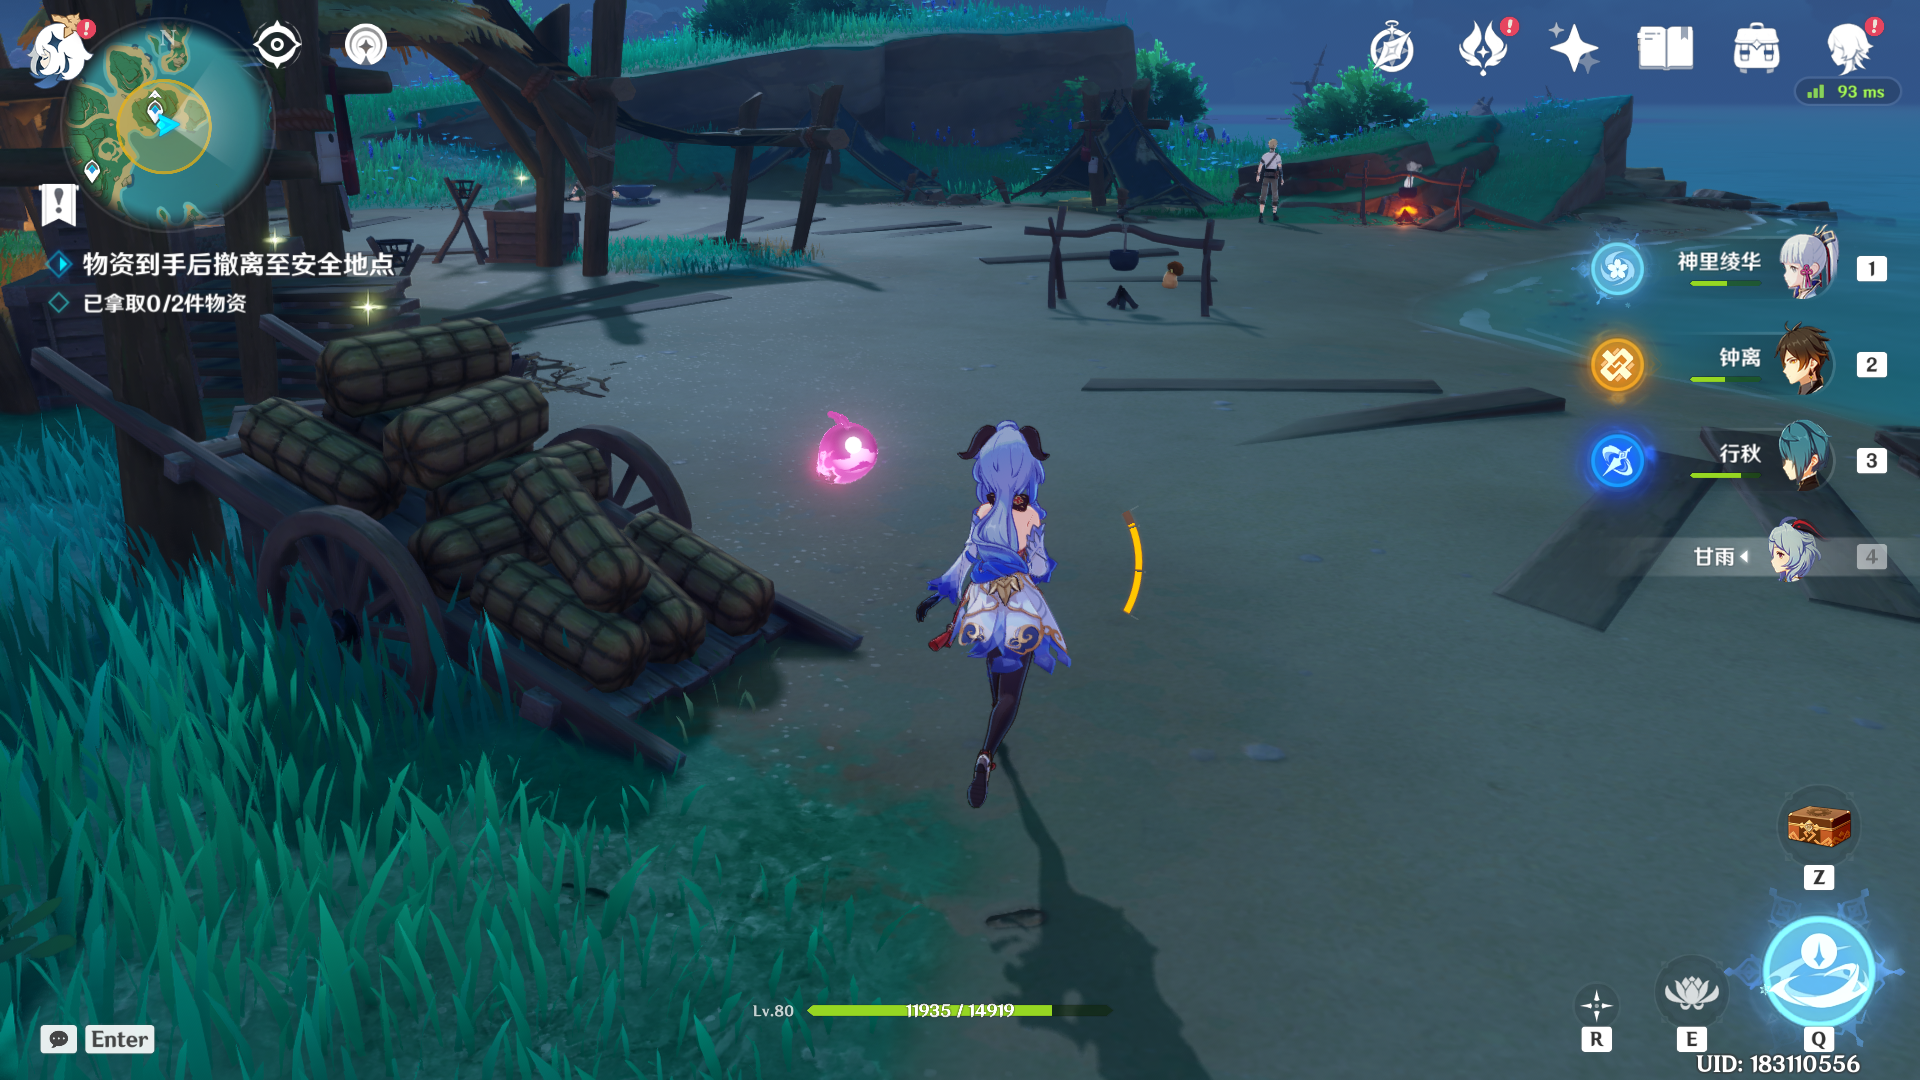character: (866, 384, 1108, 857)
robber: (1238, 120, 1298, 249)
